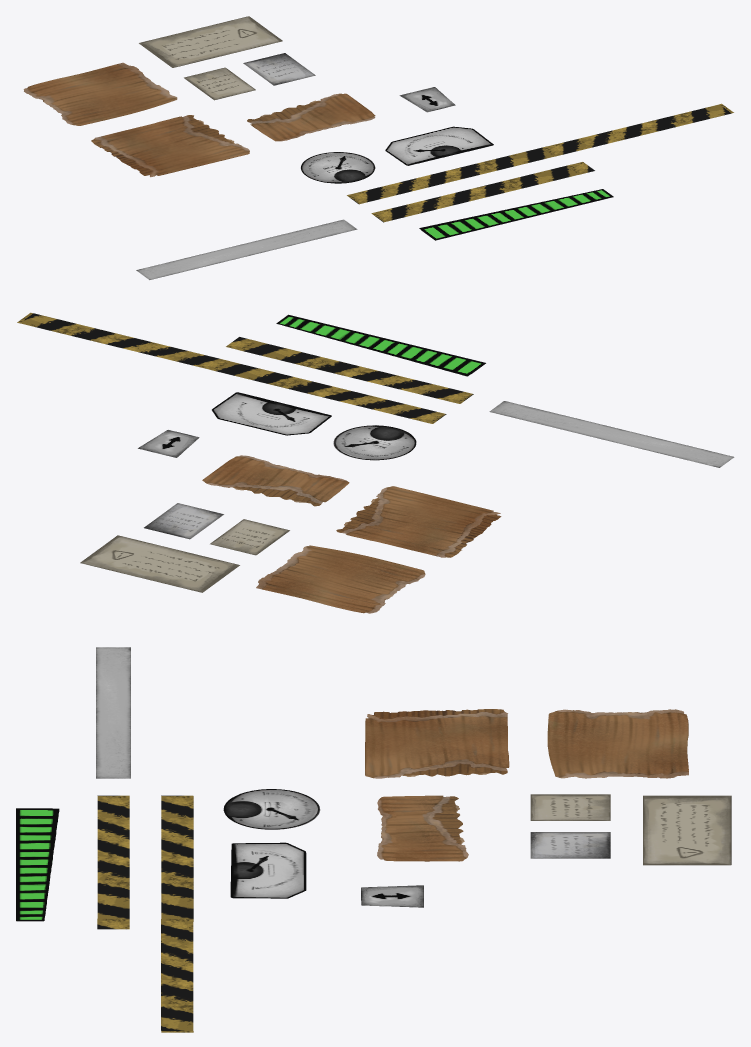
Rendered from decals.fbx.
3 renders of one model, top to bottom at view 1: azimuth 30°, elevation 25°; view 2: azimuth 150°, elevation 25°; view 3: azimuth 270°, elevation 25°, orthographic. The views are drawn at different scales.
Parts seen in each view (by area): view 1: Plane, Plane.001, Plane.012, Plane.007, Plane.002, Plane.015, Plane.013, Plane.014, Plane.010, Plane.009, Plane.003, Plane.008 (+1 smaller); view 2: Plane, Plane.001, Plane.012, Plane.007, Plane.002, Plane.015, Plane.013, Plane.014, Plane.010, Plane.009, Plane.003, Plane.008 (+1 smaller); view 3: Plane, Plane.001, Plane.012, Plane.007, Plane.002, Plane.015, Plane.013, Plane.014, Plane.010, Plane.009, Plane.003, Plane.008 (+1 smaller).
Part boxes in pixels (x1,y1,x2,y2): Plane: (91, 115, 249, 177); Plane.001: (23, 62, 177, 125); Plane.012: (347, 103, 733, 204); Plane.007: (139, 16, 282, 67); Plane.002: (247, 93, 375, 141); Plane.015: (136, 219, 357, 279); Plane.013: (371, 162, 594, 222); Plane.014: (419, 189, 613, 240); Plane.010: (385, 126, 493, 165); Plane.009: (301, 152, 375, 183); Plane.003: (184, 67, 255, 100); Plane.008: (243, 53, 315, 85); Plane: (336, 486, 501, 557); Plane.001: (256, 545, 425, 613); Plane.012: (17, 312, 446, 423); Plane.007: (80, 535, 239, 592); Plane.002: (202, 455, 349, 506); Plane.015: (489, 401, 734, 467); Plane.013: (226, 337, 473, 403); Plane.014: (276, 314, 485, 376); Plane.010: (212, 392, 331, 435); Plane.009: (333, 425, 416, 460); Plane.003: (210, 519, 289, 555); Plane.008: (144, 503, 223, 539); Plane: (365, 709, 509, 778); Plane.001: (547, 709, 688, 778); Plane.012: (161, 795, 193, 1032); Plane.007: (643, 795, 731, 865); Plane.002: (377, 795, 468, 861); Plane.015: (96, 647, 130, 778); Plane.013: (97, 795, 129, 929); Plane.014: (16, 808, 59, 921); Plane.010: (230, 842, 306, 898); Plane.009: (223, 789, 320, 829); Plane.003: (530, 794, 610, 820); Plane.008: (530, 832, 610, 858).
Bounding box in the file's own units: 1064 × 0.3304 × 845.
Materials: 1 (1 with a texture image).
